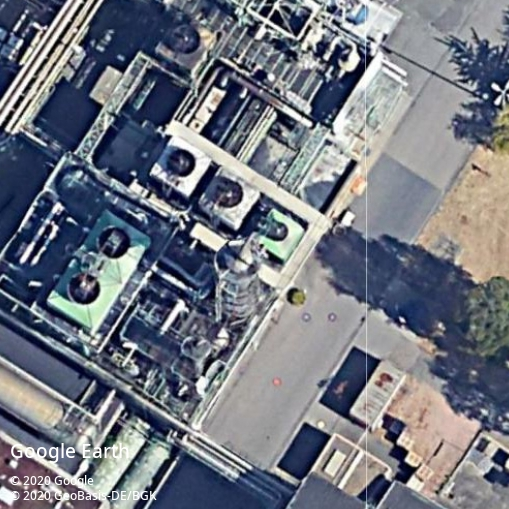Vent: (96, 225, 131, 261), (67, 271, 102, 306), (170, 24, 202, 55), (166, 149, 197, 178), (213, 180, 243, 209), (268, 222, 290, 242)
